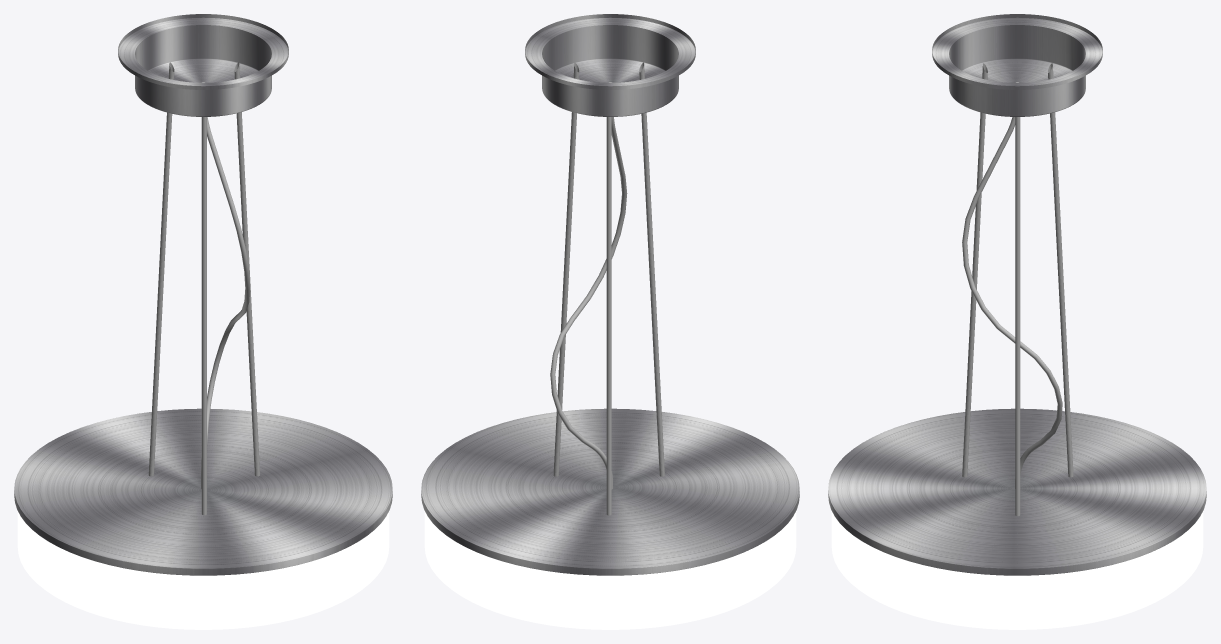
File: Light.FBX
3 views of the same model, side by side, from view 1: azimuth 30°, elevation 25°; view 2: azimuth 150°, elevation 25°; view 3: azimuth 270°, elevation 25° (orthographic).
Parts seen in each view (by area): view 1: Metal; view 2: Metal; view 3: Metal.
Boxes of the visible parts, box(x1,y1,x2,y2) form: Metal: box(14, 14, 392, 629); Metal: box(421, 14, 799, 629); Metal: box(828, 14, 1206, 629).
Size of the model in its own units: 73.03 by 108 by 73.03.
1 material, 1 textured.
